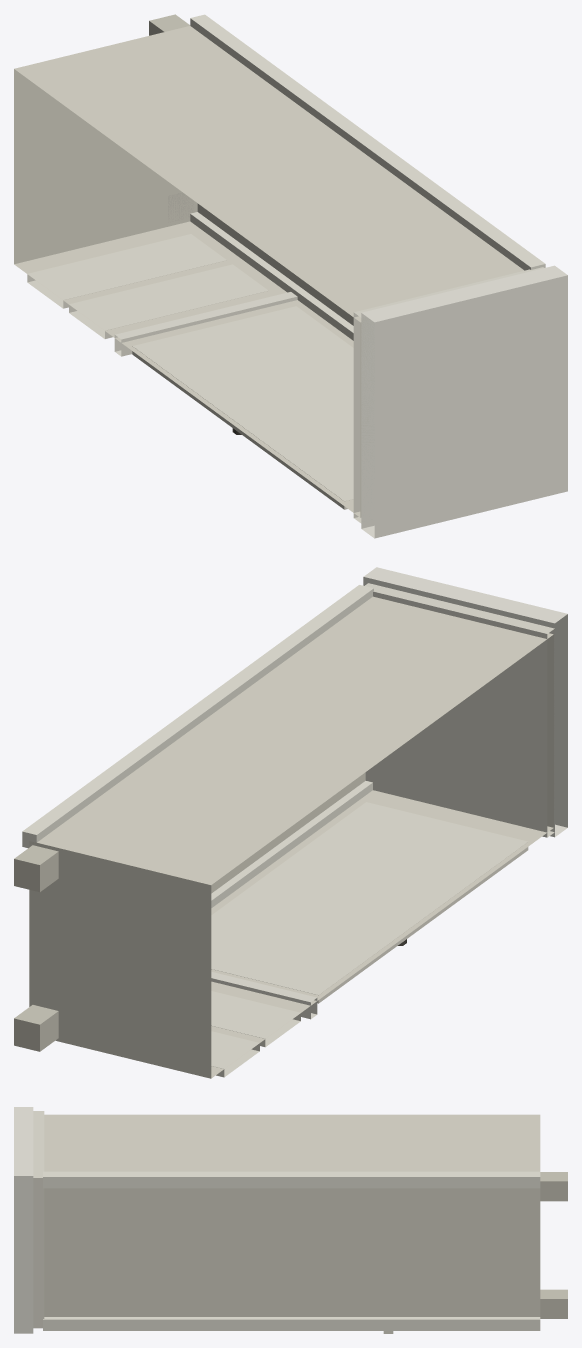
The model's file is section-7.obj.
3 views of the same model, one above another, from view 1: azimuth 30°, elevation 25°; view 2: azimuth 150°, elevation 25°; view 3: azimuth 270°, elevation 25° (orthographic). The views are drawn at different scales.
Size of the model in its own units: 0.59 by 0.6575 by 2.01.
Materials: 1 (1 with a texture image).
